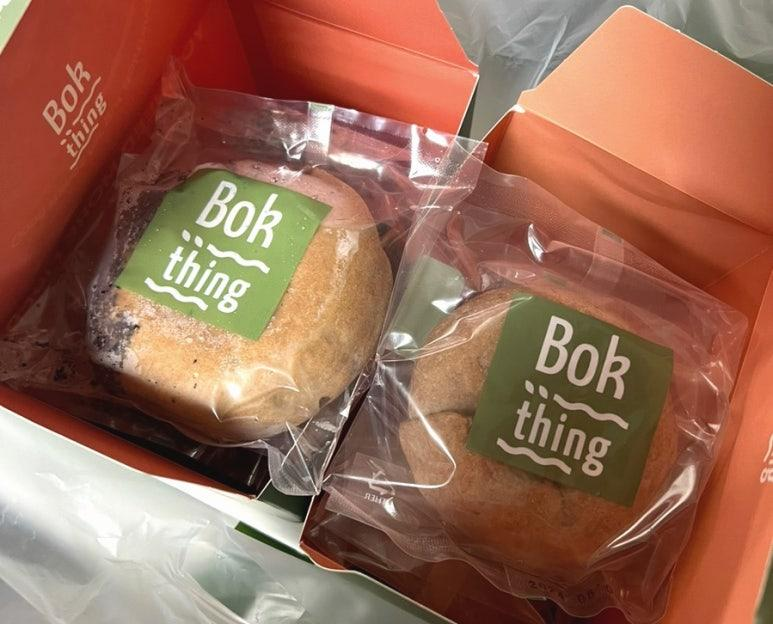Lunch Box: (0, 65, 486, 494), (322, 167, 745, 623), (488, 7, 772, 623), (0, 0, 477, 322)
